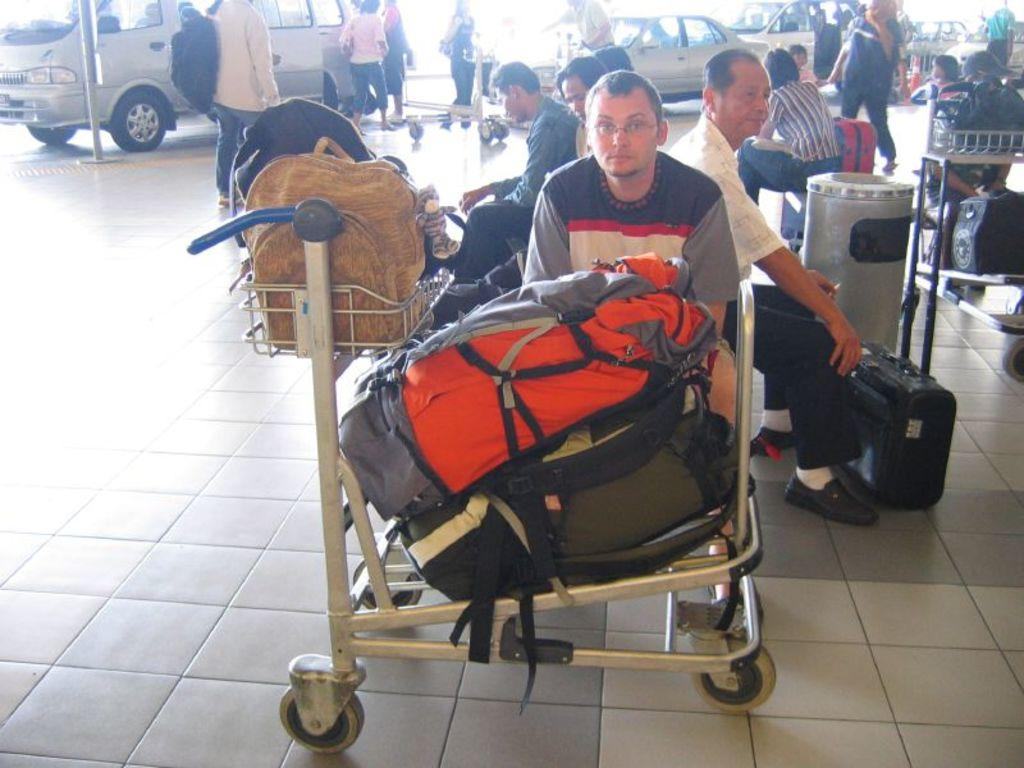Luggage-and-bags: (378, 411, 763, 716), (333, 252, 719, 541), (769, 298, 950, 535), (241, 137, 430, 343), (474, 372, 709, 532), (225, 92, 370, 251), (933, 77, 1023, 180), (951, 186, 1023, 280), (165, 0, 219, 122), (822, 113, 873, 175)
